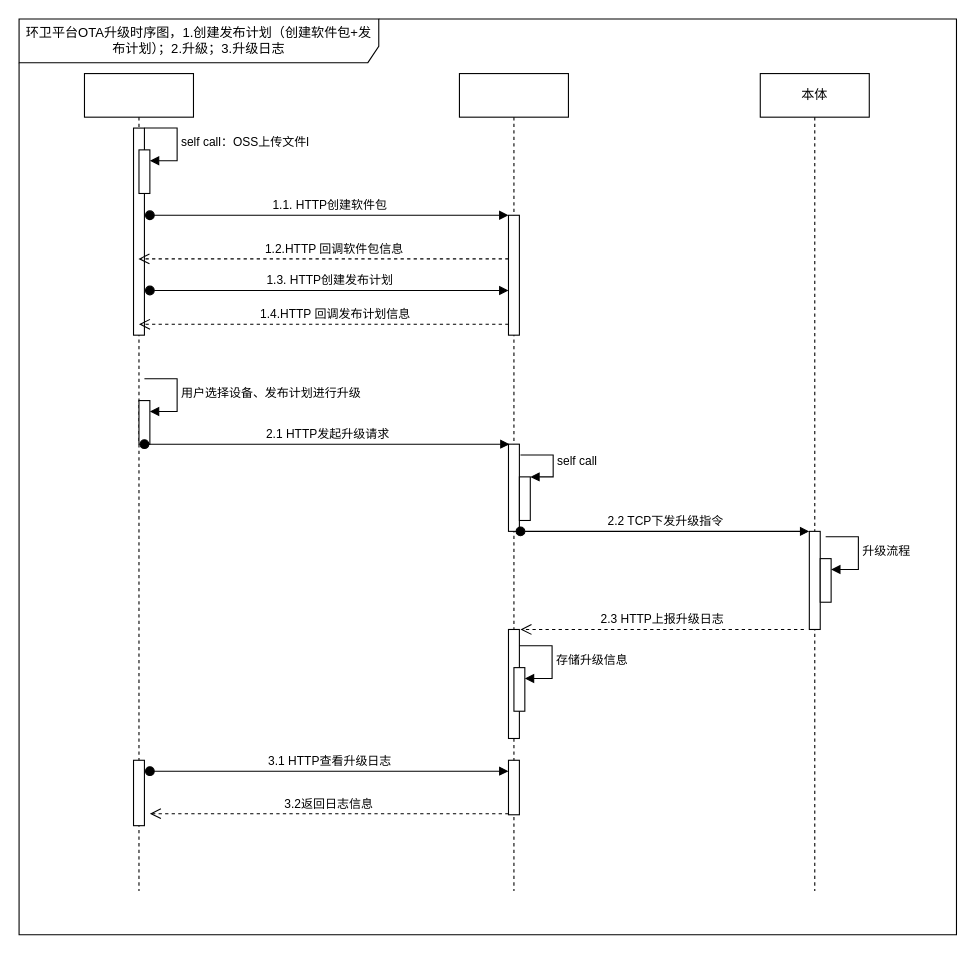
The diagram is 976 pixels wide and 954 high, and some of its shapes have lost their labels. The shapes that lost their labels are listed below. From the top down, each one's box as (x1, y1, x2, y2) in pixels, then its label:
(83, 72, 193, 891): 环卫平台
(458, 72, 568, 891): OTA平台
